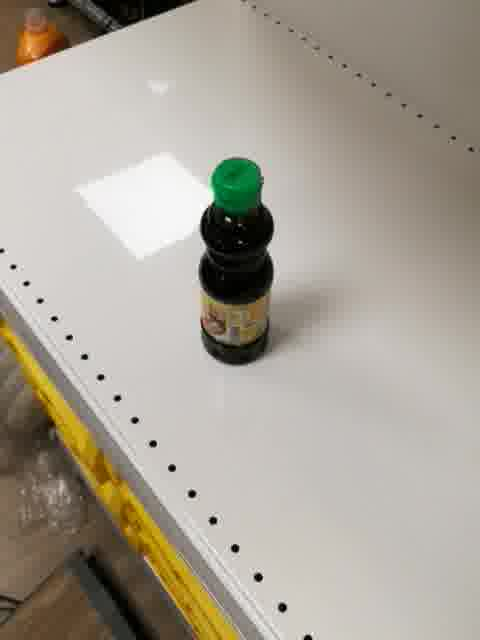cookingoil: (196, 153, 277, 368)
